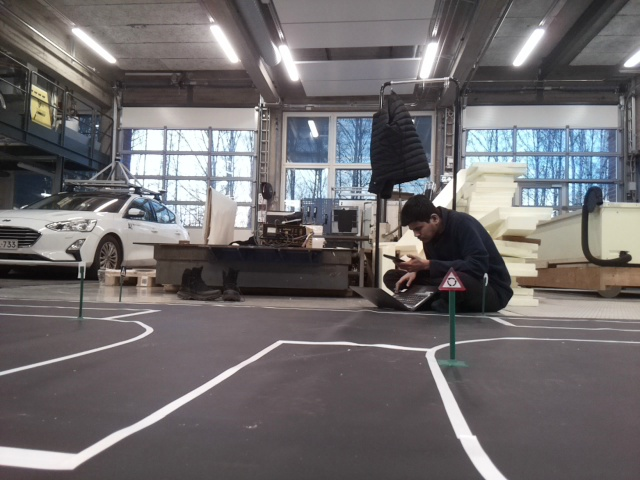Roundabout: (436, 267, 468, 292)
